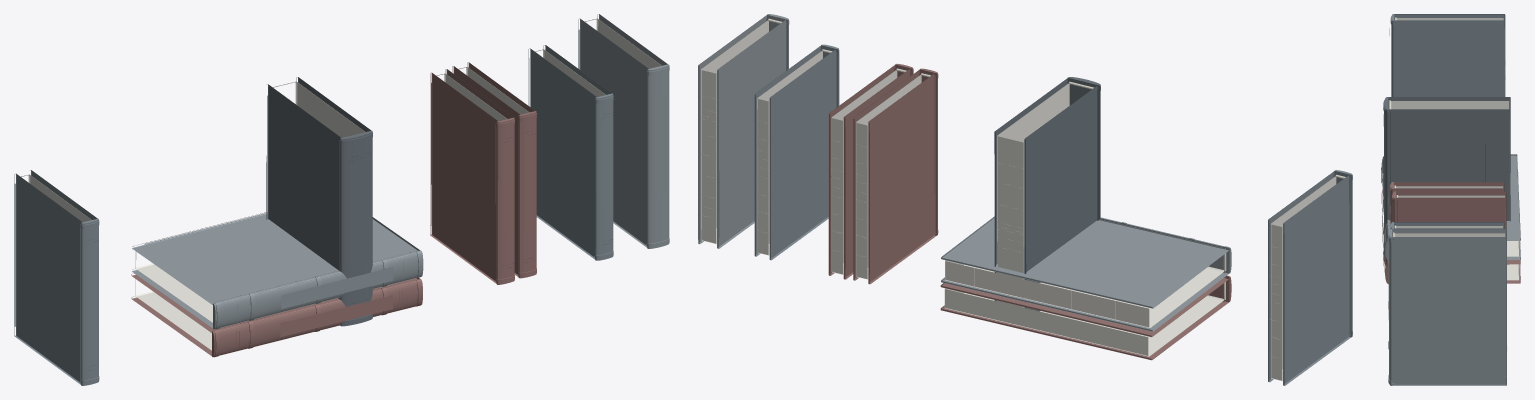
Rendered from X14_LRSGRAY_BOOKS_S04_bk1.glb.
The picture shows the model from 3 angles, left to right: view 1: azimuth 30°, elevation 25°; view 2: azimuth 150°, elevation 25°; view 3: azimuth 270°, elevation 25°; orthographic projection. The views are drawn at different scales.
Visible parts, largest first — view 1: S02_ORDERLY_REFERENCE_A_S02_ORDERLY_REFERENCE_B05_book_04_co, S02_ORDERLY_REFERENCE_A_S02_ORDERLY_REFERENCE_B11_book_03_co, S02_ORDERLY_REFERENCE_A_S02_ORDERLY_REFERENCE_B03_book_03_co, S02_ORDERLY_REFERENCE_A_S02_ORDERLY_REFERENCE_B15_book_03_co, S02_ORDERLY_REFERENCE_A_S02_ORDERLY_REFERENCE_B06_book_05_co, S02_ORDERLY_REFERENCE_A_S02_ORDERLY_REFERENCE_B17_book_01_co, S02_ORDERLY_REFERENCE_A_S02_ORDERLY_REFERENCE_B06_book_05_sp, S02_ORDERLY_REFERENCE_A_S02_ORDERLY_REFERENCE_B05_book_04_sp, S02_ORDERLY_REFERENCE_A_S02_ORDERLY_REFERENCE_B04_book_04_sp, S02_ORDERLY_REFERENCE_A_S02_ORDERLY_REFERENCE_B17_book_01_sp, S02_ORDERLY_REFERENCE_A_S02_ORDERLY_REFERENCE_B12_book_03_sp, S02_ORDERLY_REFERENCE_A_S02_ORDERLY_REFERENCE_B11_book_03_sp (+20 smaller); view 2: S02_ORDERLY_REFERENCE_A_S02_ORDERLY_REFERENCE_B05_book_04_co (×2), S02_ORDERLY_REFERENCE_A_S02_ORDERLY_REFERENCE_B11_book_03_co (×2), S02_ORDERLY_REFERENCE_A_S02_ORDERLY_REFERENCE_B03_book_03_co (×2), S02_ORDERLY_REFERENCE_A_S02_ORDERLY_REFERENCE_B15_book_03_co (×2), S02_ORDERLY_REFERENCE_A_S02_ORDERLY_REFERENCE_B06_book_05_co (×2), S02_ORDERLY_REFERENCE_A_S02_ORDERLY_REFERENCE_B17_book_01_co (×2), S02_ORDERLY_REFERENCE_A_S02_ORDERLY_REFERENCE_B05_book_04_pa, S02_ORDERLY_REFERENCE_A_S02_ORDERLY_REFERENCE_B04_book_04_pa, S02_ORDERLY_REFERENCE_A_S02_ORDERLY_REFERENCE_B06_book_05_pa, S02_ORDERLY_REFERENCE_A_S02_ORDERLY_REFERENCE_B17_book_01_pa, S02_ORDERLY_REFERENCE_A_S02_ORDERLY_REFERENCE_B12_book_03_co (×2), S02_ORDERLY_REFERENCE_A_S02_ORDERLY_REFERENCE_B04_book_04_co (×2) (+8 smaller); view 3: S02_ORDERLY_REFERENCE_A_S02_ORDERLY_REFERENCE_B17_book_01_co (×2), S02_ORDERLY_REFERENCE_A_S02_ORDERLY_REFERENCE_B06_book_05_co (×2), S02_ORDERLY_REFERENCE_A_S02_ORDERLY_REFERENCE_B03_book_03_co (×2), S02_ORDERLY_REFERENCE_A_S02_ORDERLY_REFERENCE_B17_book_01_TI, S02_ORDERLY_REFERENCE_A_S02_ORDERLY_REFERENCE_B12_book_03_co (×2), S02_ORDERLY_REFERENCE_A_S02_ORDERLY_REFERENCE_B03_book_03_TI, S02_ORDERLY_REFERENCE_A_S02_ORDERLY_REFERENCE_B06_book_05_TI, S02_ORDERLY_REFERENCE_A_S02_ORDERLY_REFERENCE_B06_book_05_pa, S02_ORDERLY_REFERENCE_A_S02_ORDERLY_REFERENCE_B11_book_03_co (×2), S02_ORDERLY_REFERENCE_A_S02_ORDERLY_REFERENCE_B05_book_04_co, S02_ORDERLY_REFERENCE_A_S02_ORDERLY_REFERENCE_B15_book_03_co (×2), S02_ORDERLY_REFERENCE_A_S02_ORDERLY_REFERENCE_B06_book_05_sp (+14 smaller).
Part boxes in pixels (x1,y1,x2,y2): S02_ORDERLY_REFERENCE_A_S02_ORDERLY_REFERENCE_B05_book_04_co: [132, 212, 420, 304]; S02_ORDERLY_REFERENCE_A_S02_ORDERLY_REFERENCE_B11_book_03_co: [430, 72, 498, 283]; S02_ORDERLY_REFERENCE_A_S02_ORDERLY_REFERENCE_B03_book_03_co: [14, 173, 82, 384]; S02_ORDERLY_REFERENCE_A_S02_ORDERLY_REFERENCE_B15_book_03_co: [528, 48, 596, 259]; S02_ORDERLY_REFERENCE_A_S02_ORDERLY_REFERENCE_B06_book_05_co: [266, 84, 341, 298]; S02_ORDERLY_REFERENCE_A_S02_ORDERLY_REFERENCE_B17_book_01_co: [578, 18, 648, 247]; S02_ORDERLY_REFERENCE_A_S02_ORDERLY_REFERENCE_B06_book_05_sp: [339, 130, 372, 326]; S02_ORDERLY_REFERENCE_A_S02_ORDERLY_REFERENCE_B05_book_04_sp: [213, 250, 423, 329]; S02_ORDERLY_REFERENCE_A_S02_ORDERLY_REFERENCE_B04_book_04_sp: [212, 279, 422, 356]; S02_ORDERLY_REFERENCE_A_S02_ORDERLY_REFERENCE_B17_book_01_sp: [647, 64, 668, 248]; S02_ORDERLY_REFERENCE_A_S02_ORDERLY_REFERENCE_B12_book_03_sp: [518, 111, 536, 278]; S02_ORDERLY_REFERENCE_A_S02_ORDERLY_REFERENCE_B11_book_03_sp: [496, 117, 514, 284]; S02_ORDERLY_REFERENCE_A_S02_ORDERLY_REFERENCE_B05_book_04_co (×2): [941, 216, 1229, 331]; S02_ORDERLY_REFERENCE_A_S02_ORDERLY_REFERENCE_B11_book_03_co (×2): [853, 70, 937, 284]; S02_ORDERLY_REFERENCE_A_S02_ORDERLY_REFERENCE_B03_book_03_co (×2): [1268, 171, 1352, 385]; S02_ORDERLY_REFERENCE_A_S02_ORDERLY_REFERENCE_B15_book_03_co (×2): [754, 46, 835, 260]; S02_ORDERLY_REFERENCE_A_S02_ORDERLY_REFERENCE_B06_book_05_co (×2): [994, 78, 1097, 311]; S02_ORDERLY_REFERENCE_A_S02_ORDERLY_REFERENCE_B17_book_01_co (×2): [698, 15, 788, 248]; S02_ORDERLY_REFERENCE_A_S02_ORDERLY_REFERENCE_B05_book_04_pa: [945, 254, 1224, 327]; S02_ORDERLY_REFERENCE_A_S02_ORDERLY_REFERENCE_B04_book_04_pa: [944, 288, 1224, 356]; S02_ORDERLY_REFERENCE_A_S02_ORDERLY_REFERENCE_B06_book_05_pa: [997, 83, 1092, 307]; S02_ORDERLY_REFERENCE_A_S02_ORDERLY_REFERENCE_B17_book_01_pa: [701, 20, 780, 244]; S02_ORDERLY_REFERENCE_A_S02_ORDERLY_REFERENCE_B12_book_03_co (×2): [828, 65, 910, 279]; S02_ORDERLY_REFERENCE_A_S02_ORDERLY_REFERENCE_B04_book_04_co (×2): [940, 278, 1228, 360]; S02_ORDERLY_REFERENCE_A_S02_ORDERLY_REFERENCE_B17_book_01_co (×2): [1392, 229, 1506, 385]; S02_ORDERLY_REFERENCE_A_S02_ORDERLY_REFERENCE_B06_book_05_co (×2): [1388, 97, 1510, 220]; S02_ORDERLY_REFERENCE_A_S02_ORDERLY_REFERENCE_B03_book_03_co (×2): [1394, 14, 1505, 96]; S02_ORDERLY_REFERENCE_A_S02_ORDERLY_REFERENCE_B17_book_01_TI: [1412, 270, 1483, 329]; S02_ORDERLY_REFERENCE_A_S02_ORDERLY_REFERENCE_B12_book_03_co (×2): [1396, 191, 1506, 229]; S02_ORDERLY_REFERENCE_A_S02_ORDERLY_REFERENCE_B03_book_03_TI: [1412, 51, 1482, 96]; S02_ORDERLY_REFERENCE_A_S02_ORDERLY_REFERENCE_B06_book_05_TI: [1408, 144, 1485, 182]; S02_ORDERLY_REFERENCE_A_S02_ORDERLY_REFERENCE_B06_book_05_pa: [1391, 101, 1509, 109]; S02_ORDERLY_REFERENCE_A_S02_ORDERLY_REFERENCE_B11_book_03_co (×2): [1394, 182, 1504, 191]; S02_ORDERLY_REFERENCE_A_S02_ORDERLY_REFERENCE_B05_book_04_co: [1506, 154, 1520, 240]; S02_ORDERLY_REFERENCE_A_S02_ORDERLY_REFERENCE_B15_book_03_co (×2): [1394, 222, 1504, 229]; S02_ORDERLY_REFERENCE_A_S02_ORDERLY_REFERENCE_B06_book_05_sp: [1384, 97, 1388, 256].
Bounding box in the file's own units: 0.7488 × 0.228 × 0.1863.
